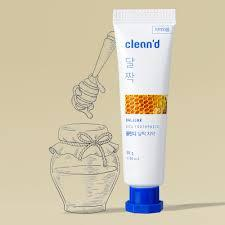toothpaste: (105, 5, 185, 216)
